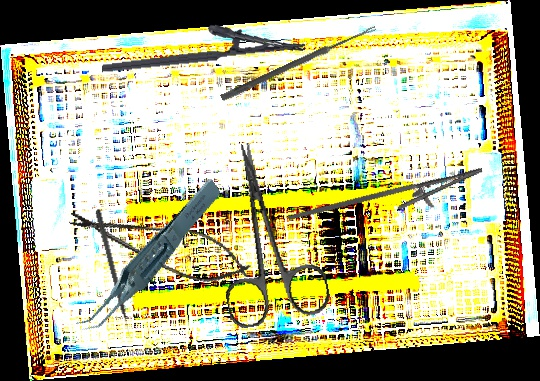Iris Scissors: (198, 133, 333, 331)
Micro Scissor: (63, 197, 256, 294)
Needle Holder: (287, 144, 489, 258), (98, 14, 306, 74)
Pusher: (93, 208, 133, 339)
Surgical Spoon: (220, 23, 377, 103)
Tissue Forceps: (49, 176, 246, 337)
